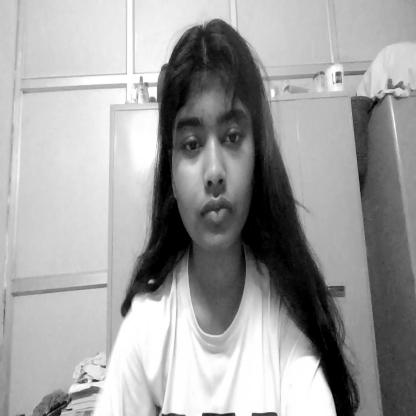Normal: (166, 23, 262, 264)
